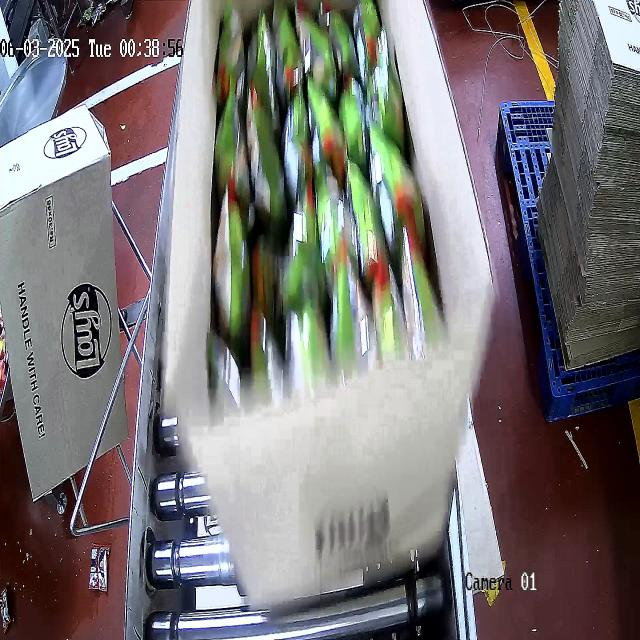YOGURT_HERB: (207, 0, 442, 380)
